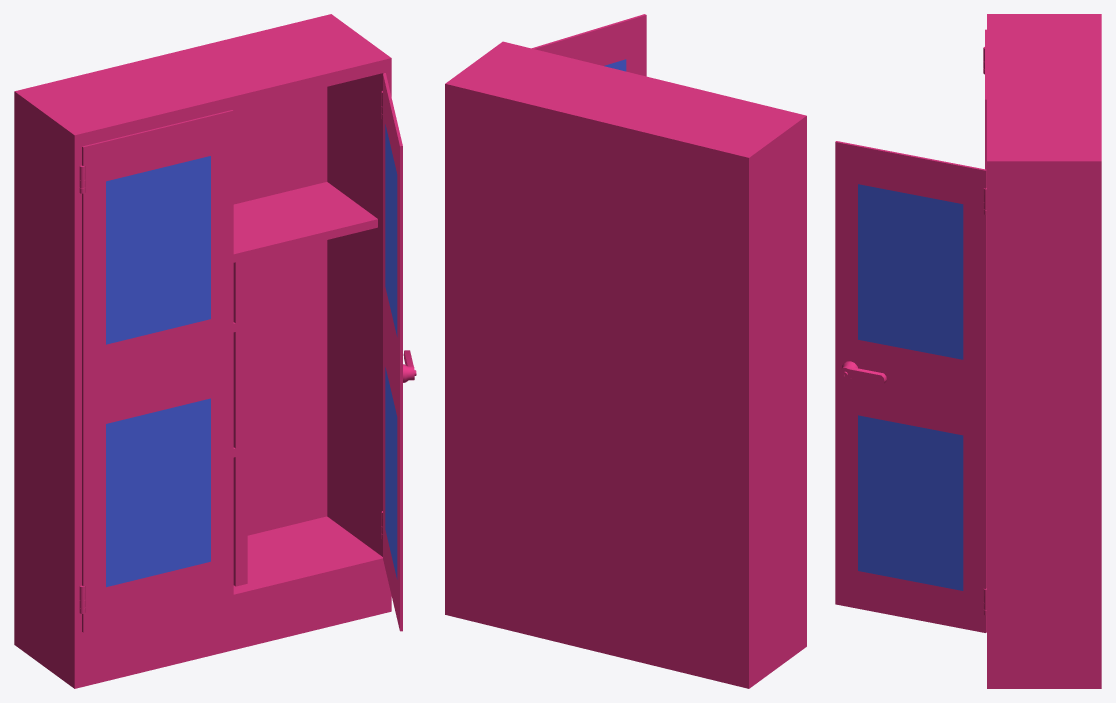
Rendered from Gun 1Open.fbx.
The picture shows the model from 3 angles, left to right: view 1: azimuth 30°, elevation 25°; view 2: azimuth 150°, elevation 25°; view 3: azimuth 270°, elevation 25°; orthographic projection. The views are drawn at different scales.
Parts seen in each view (by area): view 1: dOOR.001; view 2: dOOR.001; view 3: dOOR.001.
Boxes of the visible parts, x1=… form: dOOR.001: x1=14, y1=14, x2=416, y2=688; dOOR.001: x1=445, y1=14, x2=806, y2=688; dOOR.001: x1=835, y1=14, x2=1101, y2=688.
Bounding box in the file's own units: 1.28 × 2.13 × 0.9771.
